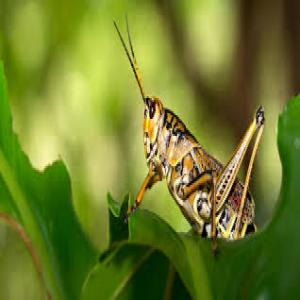locust: (135, 50, 272, 248)
